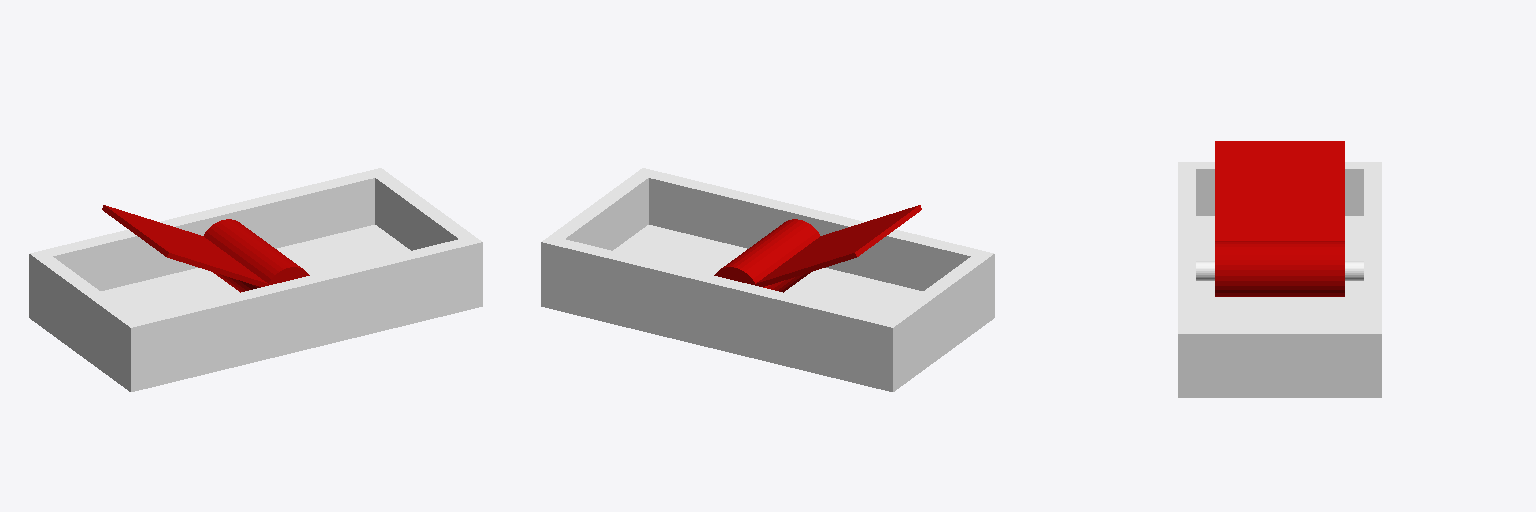
The model's file is SwtichOff.obj.
The picture shows the model from 3 angles: view 1: azimuth 30°, elevation 25°; view 2: azimuth 150°, elevation 25°; view 3: azimuth 270°, elevation 25°; orthographic projection.
Visible parts, largest first — view 1: Cube_Cube.001, Cylinder; view 2: Cube_Cube.001, Cylinder; view 3: Cube_Cube.001, Cylinder.
Part boxes in pixels (left/top/right/bottom): Cube_Cube.001: left=29, top=168, right=482, bottom=391; Cylinder: left=102, top=205, right=309, bottom=292; Cube_Cube.001: left=541, top=168, right=994, bottom=391; Cylinder: left=714, top=205, right=921, bottom=292; Cube_Cube.001: left=1178, top=162, right=1381, bottom=397; Cylinder: left=1215, top=141, right=1344, bottom=296.
Size of the model in its own units: 4 by 1.23 by 2.